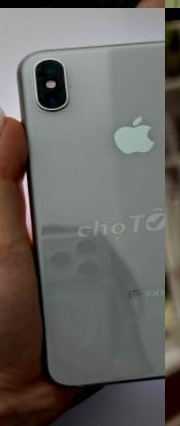scratch: (0, 0, 149, 8), (64, 79, 78, 94)
